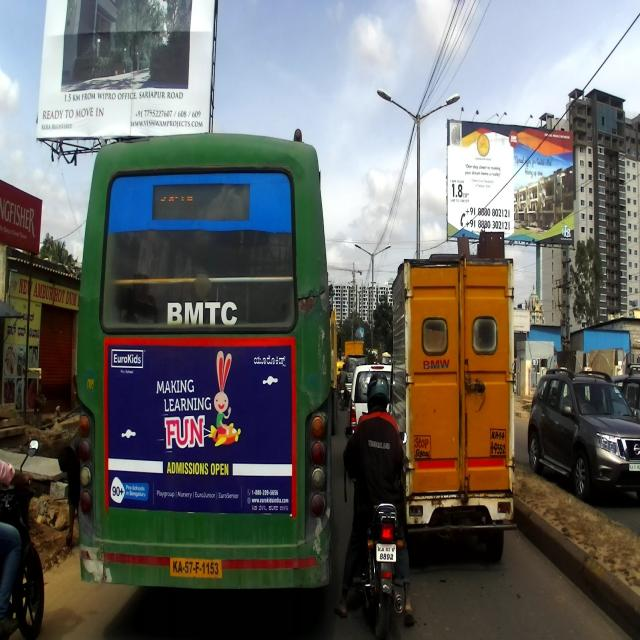bus: (75, 123, 334, 594)
car: (526, 364, 640, 502)
motorcycle: (340, 426, 411, 637), (0, 438, 47, 639)
truck: (388, 255, 518, 566)
